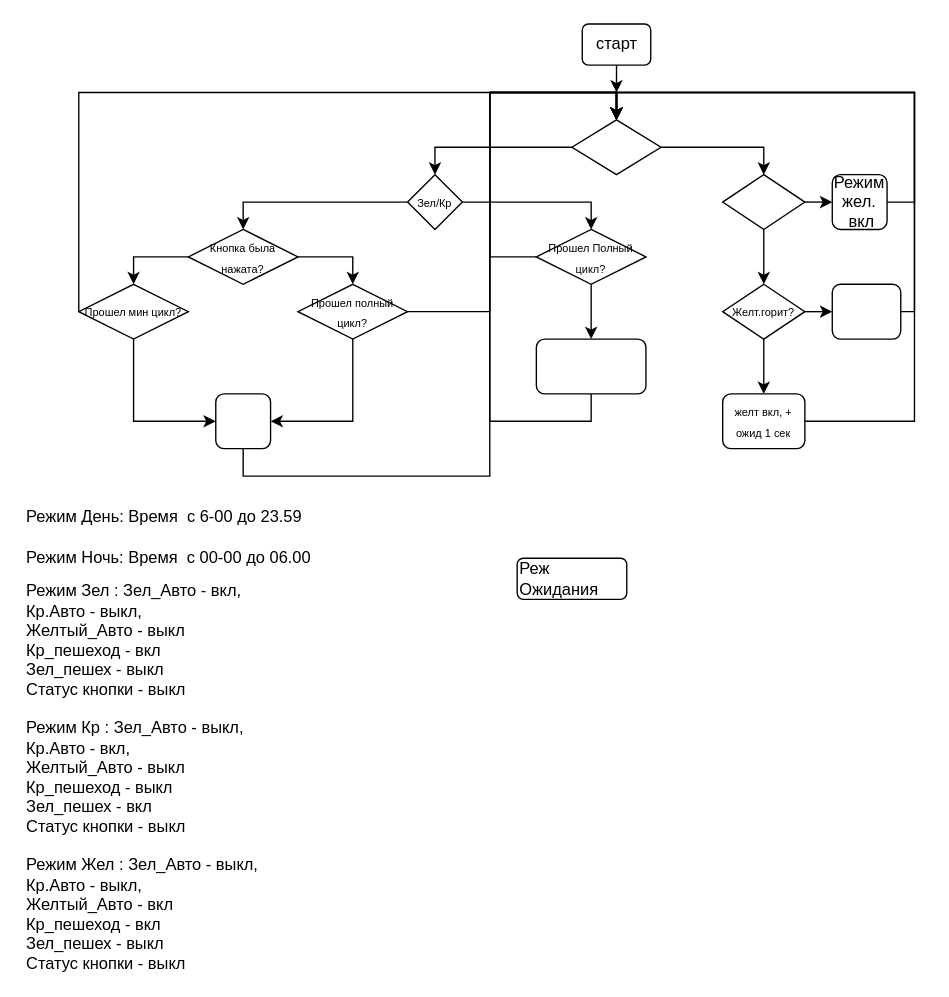
Image size: 949x997. Some labels were removed from this diagram. Here are the shapes that lost their labels. From the top down, the centre of each, then its label:
At pixel 616 147: "Режим День?".
At pixel 763 201: "Режим Жел?".
At pixel 866 311: "Желт.выкл + ожид 1сек".
At pixel 590 366: "режим зел.".
At pixel 242 421: "Режим Кр.".
